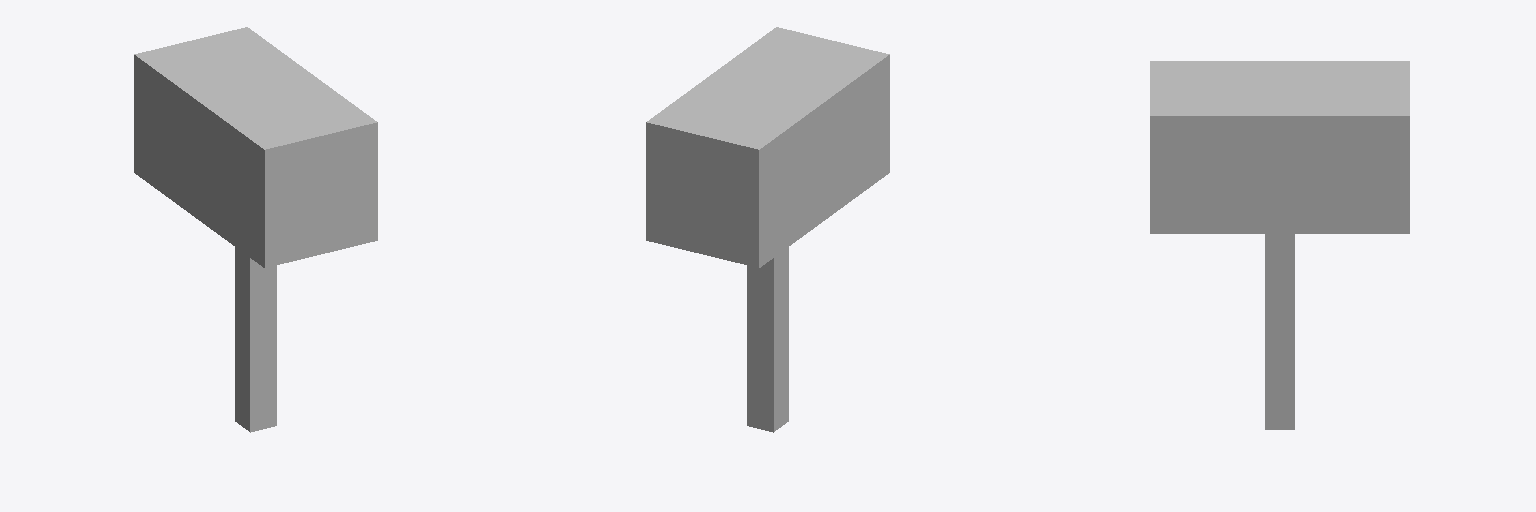
Rendered from weapon.obj.
3 views of the same model, side by side, from view 1: azimuth 30°, elevation 25°; view 2: azimuth 150°, elevation 25°; view 3: azimuth 270°, elevation 25° (orthographic).
Parts seen in each view (by area): view 1: 立方体.001, 立方体; view 2: 立方体.001, 立方体; view 3: 立方体.001, 立方体.
Part boxes in pixels (x1,y1,x2,y2): 立方体.001: (134, 27, 377, 267); 立方体: (235, 247, 276, 432); 立方体.001: (646, 27, 889, 267); 立方体: (747, 247, 788, 432); 立方体.001: (1150, 61, 1409, 233); 立方体: (1265, 234, 1294, 429).
Bounding box in the file's own units: 0.857 × 2.43 × 1.71.